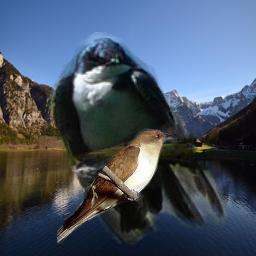Cuckoo: (57, 128, 177, 244)
Swallow: (47, 32, 232, 254)
